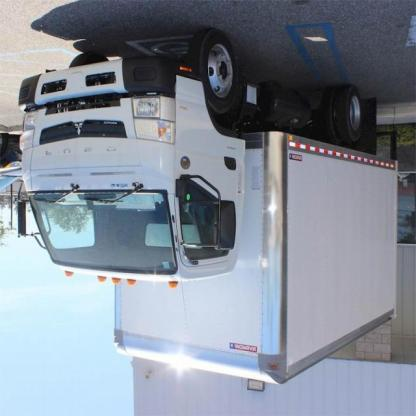truck: (17, 37, 398, 390)
